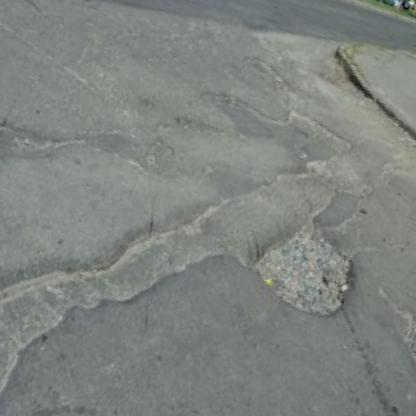pothole: (240, 208, 366, 324), (381, 309, 416, 416)
